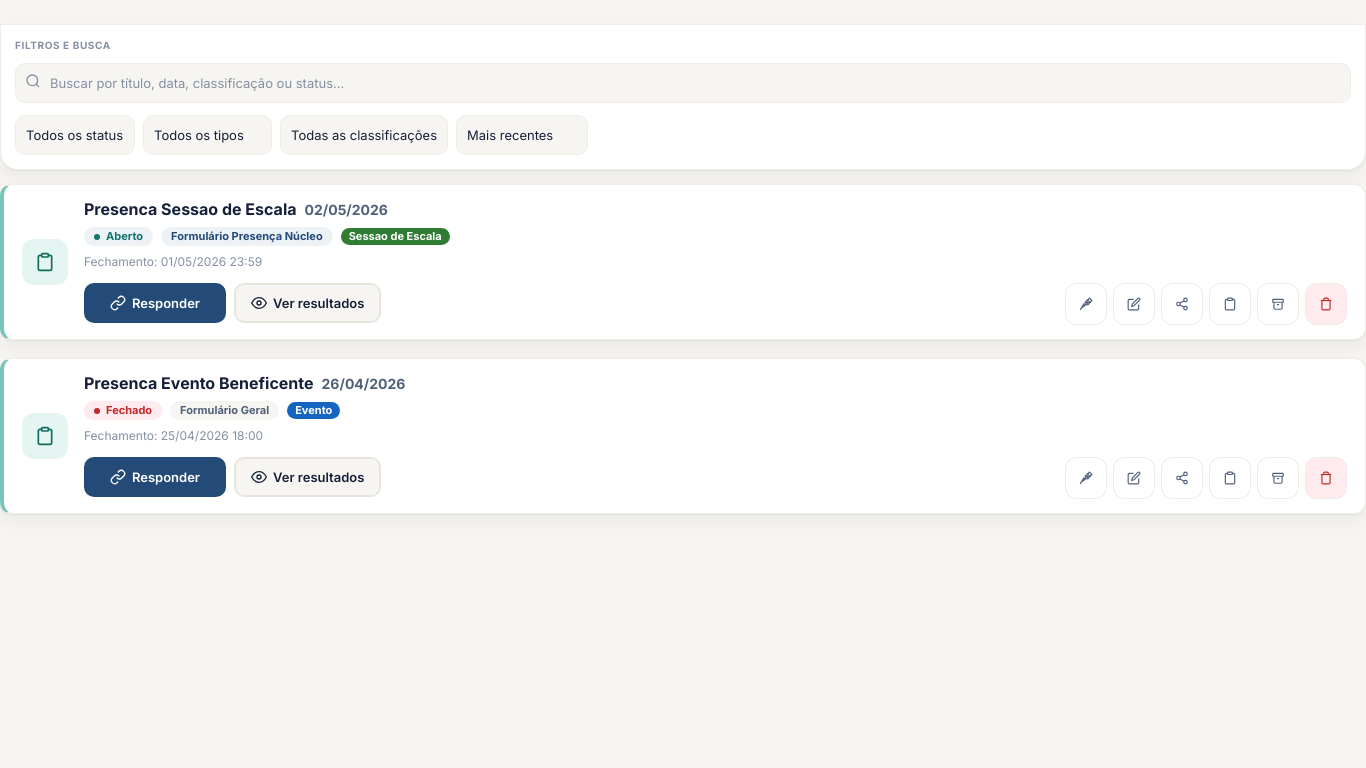
it: FormListScreen › mostra exclusao segura apenas para admin e confirma com chave mestra
Click the 1st button named "Excluir" at point(1326, 304), box [1305,283,1347,325]
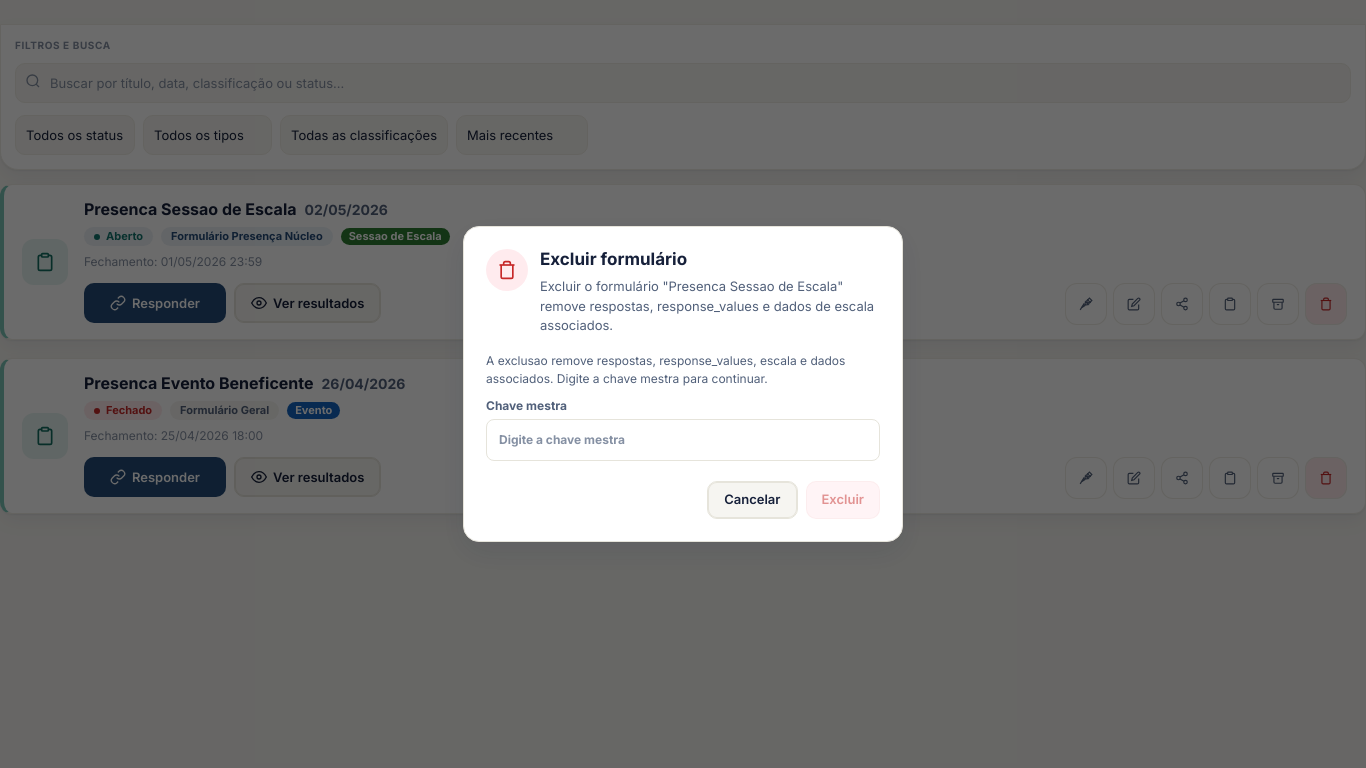
Check: the element "Excluir formulário" is shown, box [463,226,903,542]
Type "segredo" into the password field labelled "Chave mestra" at point(683, 440), box [486,419,880,461]
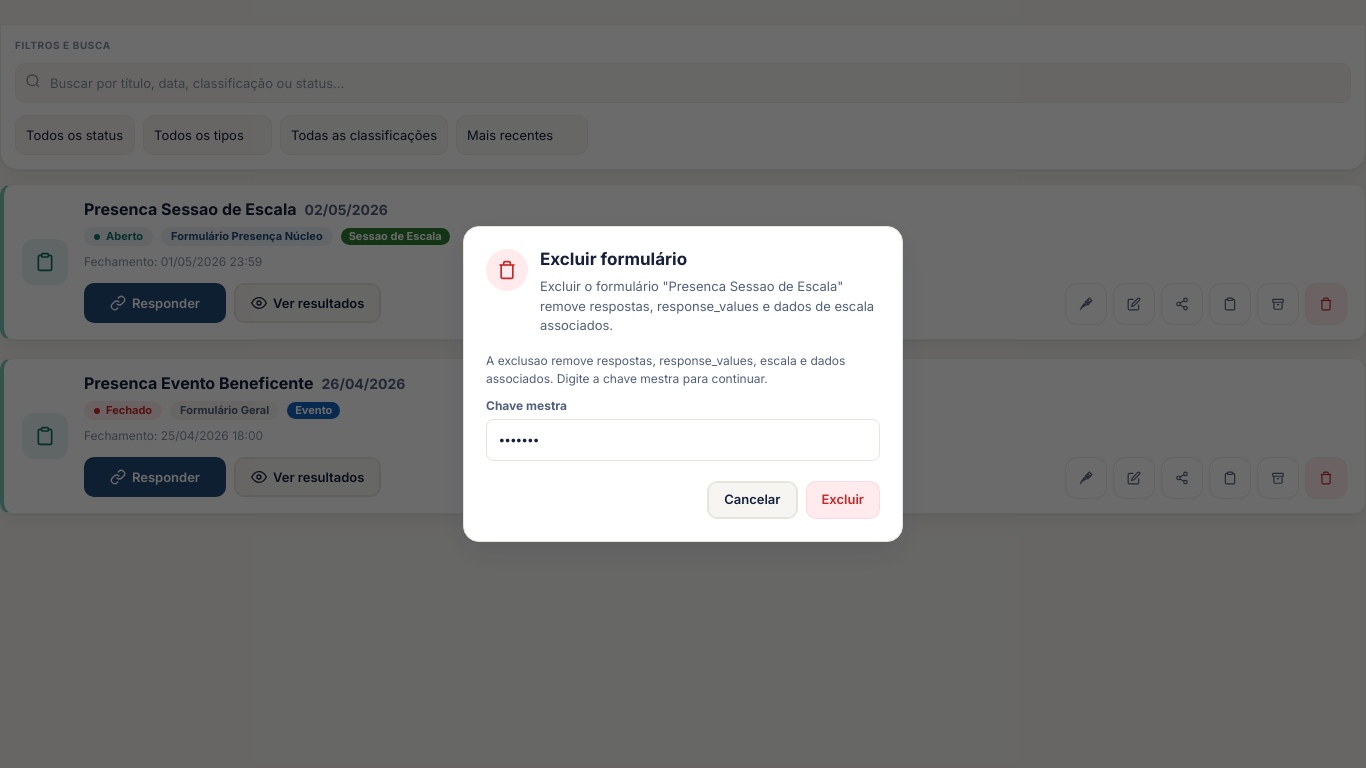
Click the button "Excluir" at point(843, 500), box [806,481,880,519]
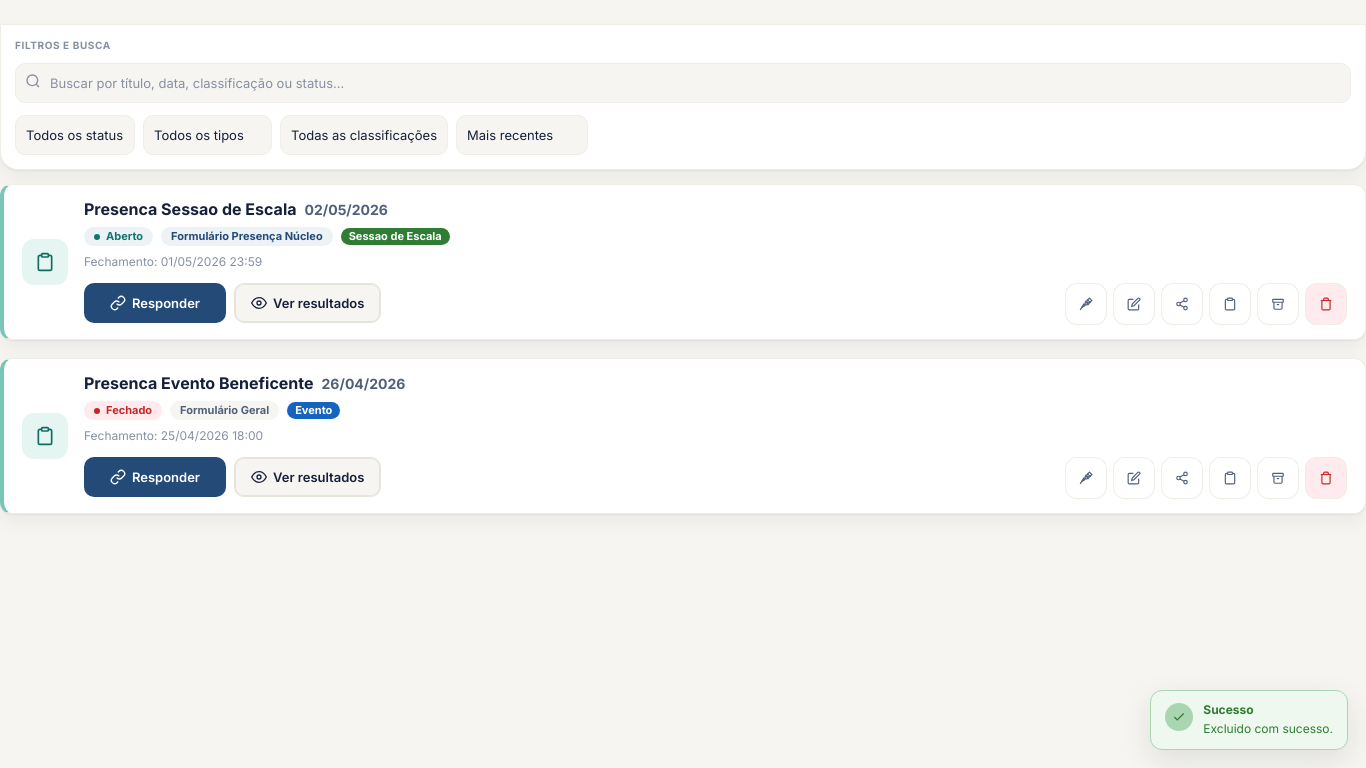
Check: the text "Excluido com sucesso." is shown, box [1203,720,1333,737]
